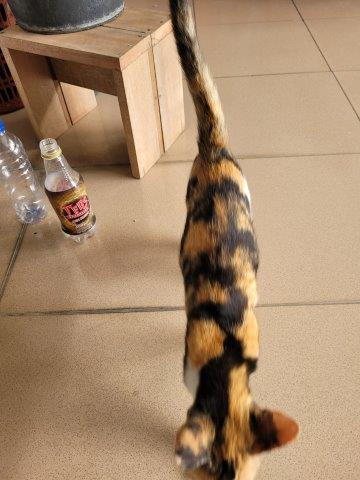botolplastik: (42, 142, 97, 242), (1, 122, 48, 228)
